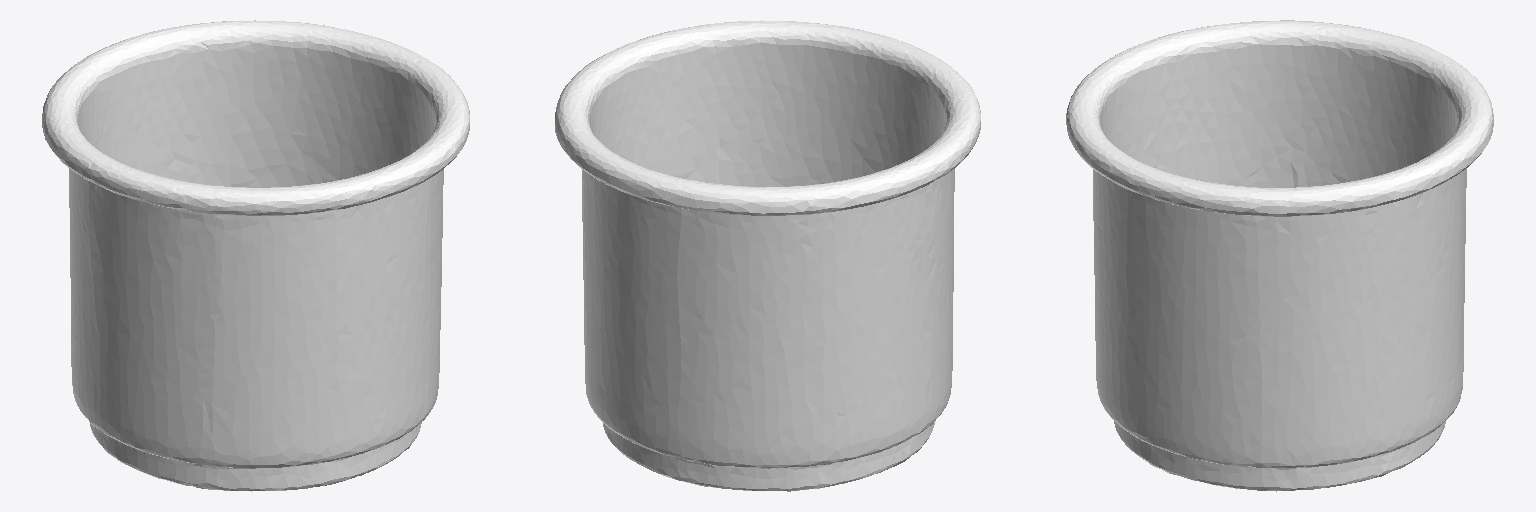
The robot description file, URDF, robot "073-a_lego_duplo":
<robot name="073-a_lego_duplo">
	<link name="_name">
		<visual>
			<origin xyz="0.1643867601045112 0.09535832647545055 -0.12146686641689841" rpy="0 0 0" />
			<geometry>
				<mesh filename="073-a_lego_duplo/google_16k/textured.obj" scale="10 10 10" />
			</geometry>
			<material name="texture">
				<color rgba="1.0 1.0 1.0 1.0" />
			</material>
		</visual>
		<collision>
			<geometry>
				<mesh filename="073-a_lego_duplo/google_16k/textured_vhacd.obj" scale="10 10 10" />
			</geometry>
		<origin xyz="0.1643867601045112 0.09535832647545055 -0.12146686641689841" rpy="0 0 0" /></collision>
		<inertial>
			<mass value="1.0" />
			<inertia ixx="1.0" ixy="0.0" ixz="0.0" iyy="1.0" iyz="0.0" izz="1.0" />
		</inertial>
	</link>
</robot>

--- What the picture shows (computed from the rendered views, not written in the file) ---
The picture shows the robot from 3 angles, left to right: view 1: azimuth 30°, elevation 25°; view 2: azimuth 150°, elevation 25°; view 3: azimuth 270°, elevation 25°; orthographic projection.
Robot: 073-a_lego_duplo — 1 links, 0 joints (none); root link _name; default pose: every joint at zero.
Links seen in each view (by area): view 1: _name; view 2: _name; view 3: _name.
Link boxes in pixels (bbox=[...]): _name: bbox=[42, 20, 469, 491]; _name: bbox=[555, 20, 980, 491]; _name: bbox=[1066, 20, 1493, 491].
Bounding box of the posed robot: 0.915 × 0.9162 × 0.7506 m (x, y, z).
1 mesh visuals loaded from 1 distinct referenced files (1 OBJ).